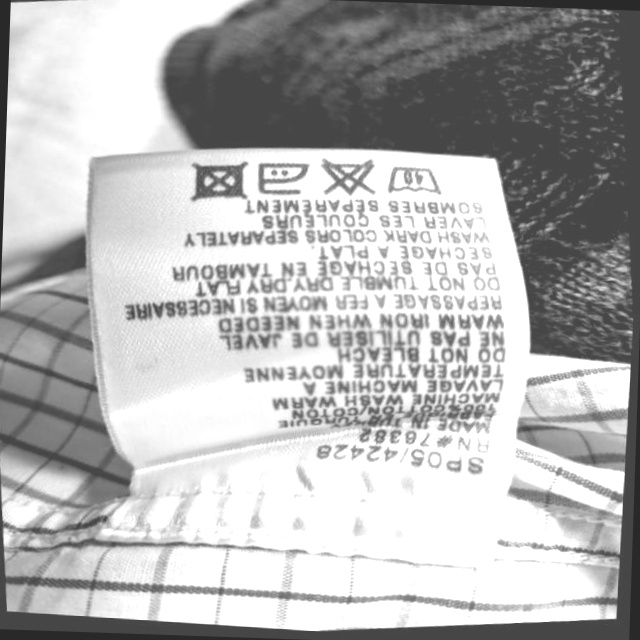40C: (384, 158, 444, 196)
DN_bleach: (312, 155, 381, 200)
DN_tumble_dry: (185, 157, 251, 202)
iron_medium: (250, 159, 311, 199)
